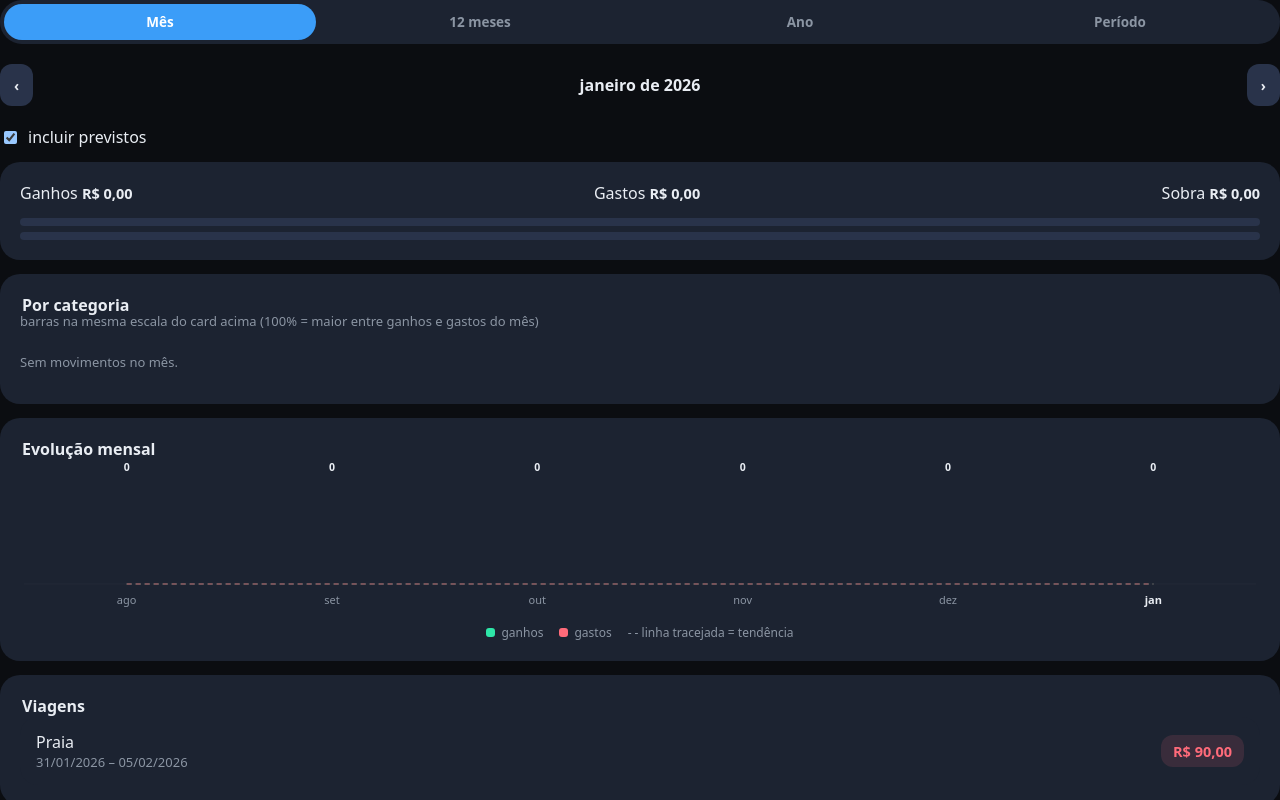
Test case: card Viagens lista o total histórico da viagem, e continua mostrando a parcela em meses futuros
The width and height of the screenshot is (1280, 800).
Expected: the text "Praia" is shown, [36, 731, 74, 753]
Expected: the text "R$ 90,00" is shown, [1161, 735, 1244, 767]
navega para março (compra fechou em fev, parcela 1 vence 05/03): a linha "viagem" deve aparecer
Click the button named "Mês seguinte": (1263, 85) [1247, 64, 1279, 106]
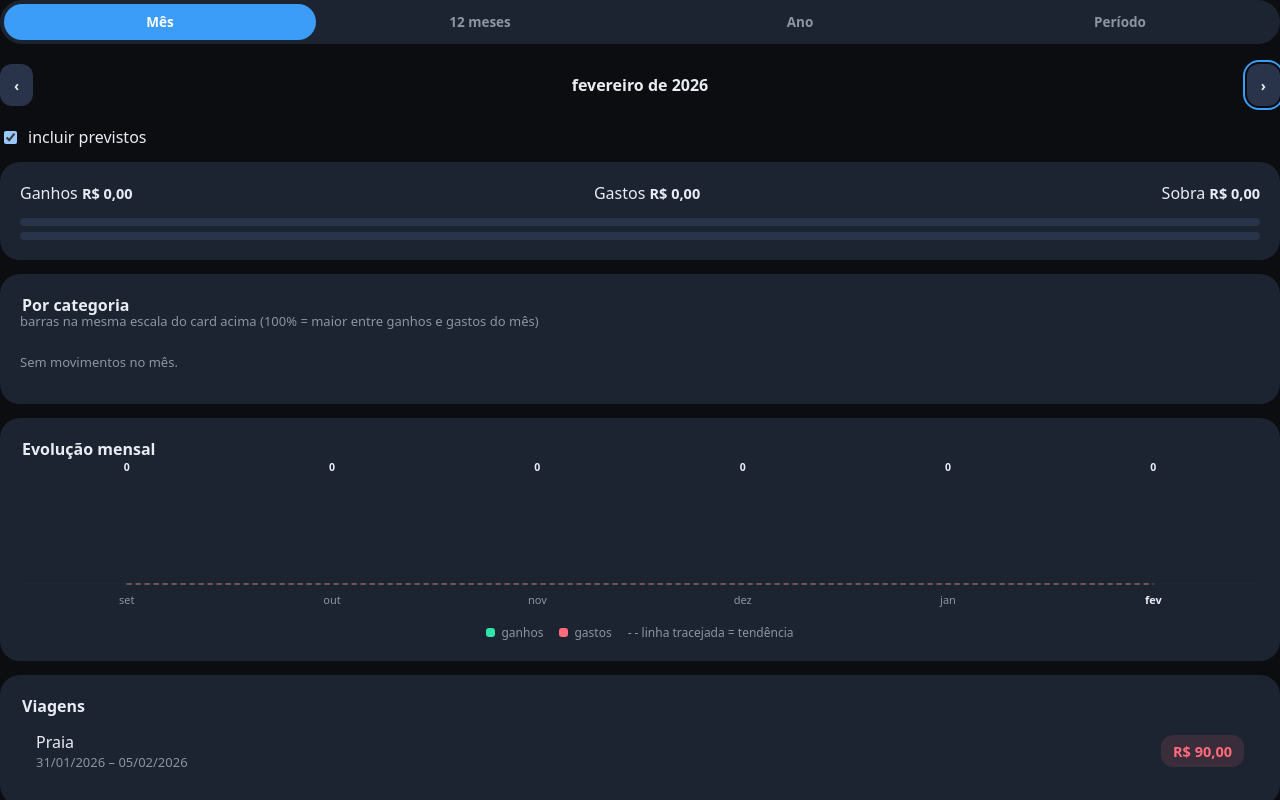
Click the button named "Mês seguinte": (1263, 85) [1247, 64, 1279, 106]
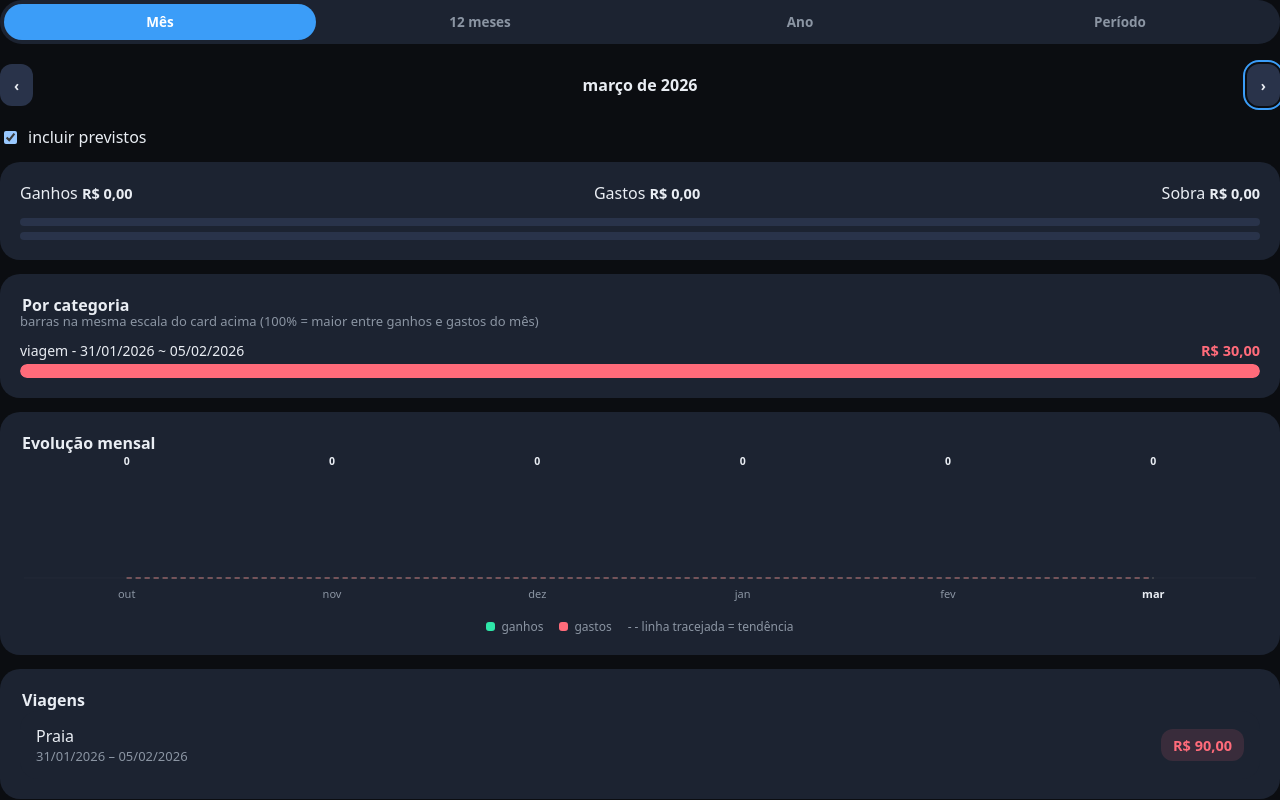
Result: the button "viagem - 31/01/2026 ~ 05/02/2026 R$ 30,00" is shown at [20, 340, 1260, 378]
